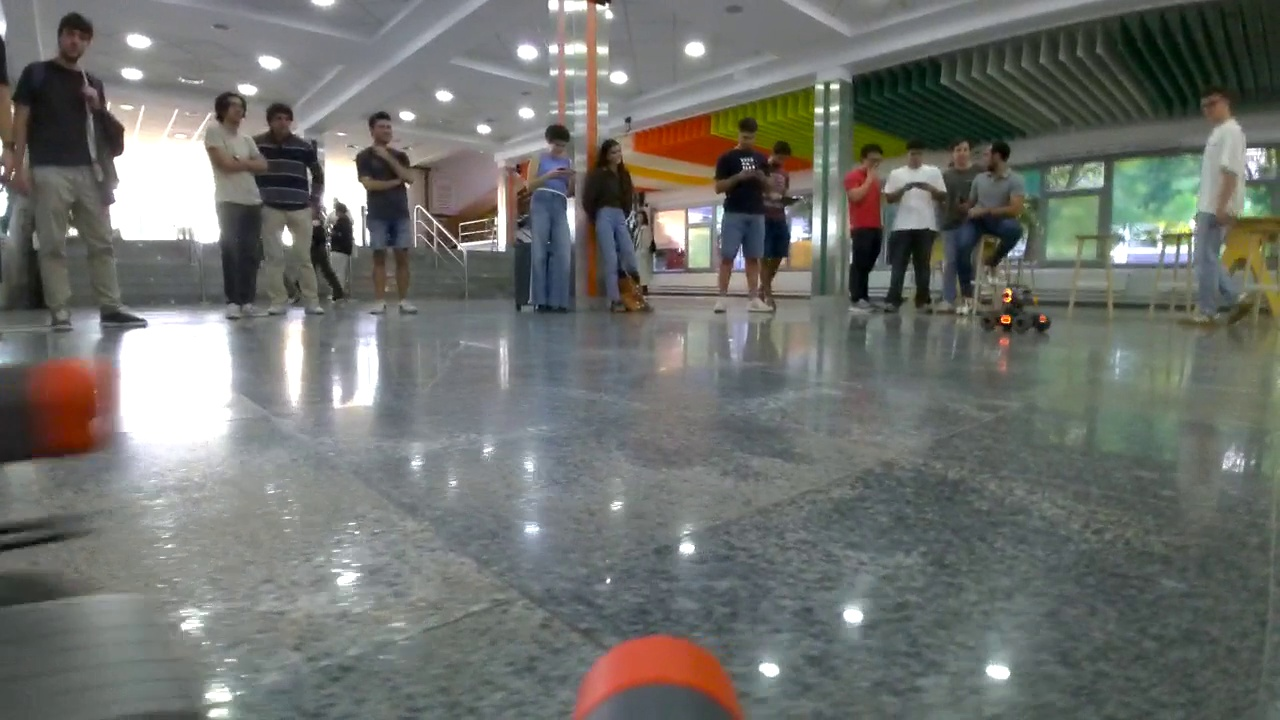robot: (981, 280, 1051, 336)
